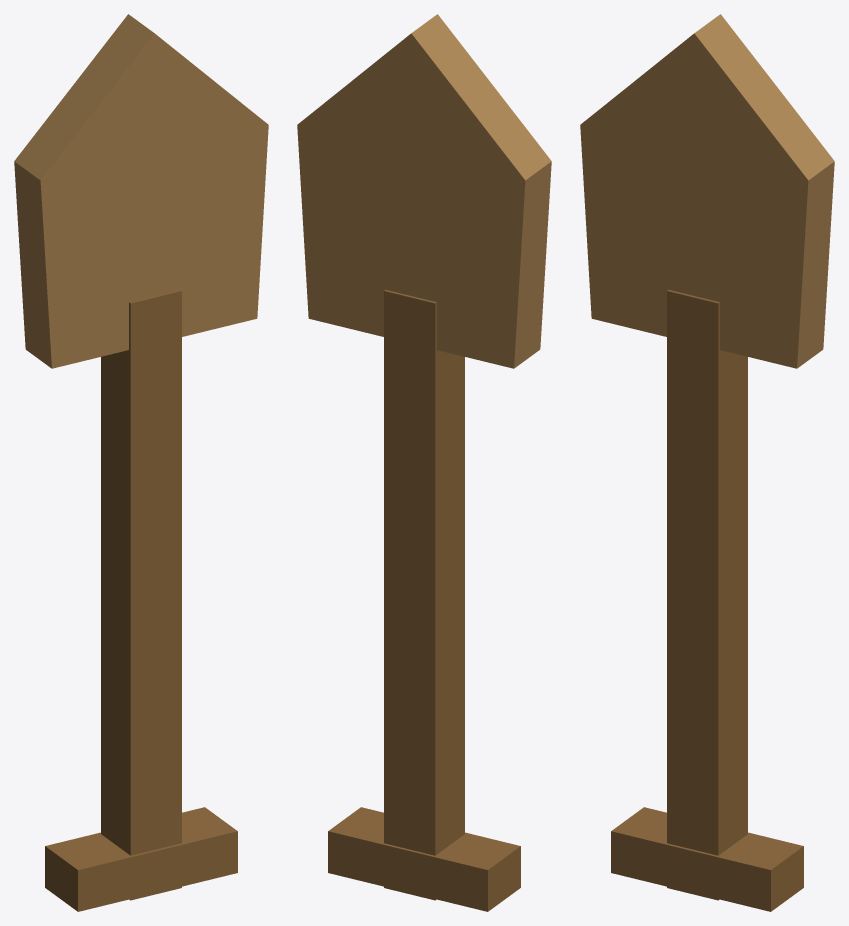
File: shovel_wood.fbx
The picture shows the model from 3 angles, left to right: view 1: azimuth 30°, elevation 25°; view 2: azimuth 150°, elevation 25°; view 3: azimuth 330°, elevation 25°; orthographic projection.
Visible parts, largest first — view 1: shovel_wood; view 2: shovel_wood; view 3: shovel_wood.
Boxes of the visible parts, x1,y1,x2,y2 form: shovel_wood: (14, 14, 268, 911); shovel_wood: (297, 14, 551, 911); shovel_wood: (580, 14, 834, 911).
Bounding box in the file's own units: 0.6 × 2.16 × 0.15.
